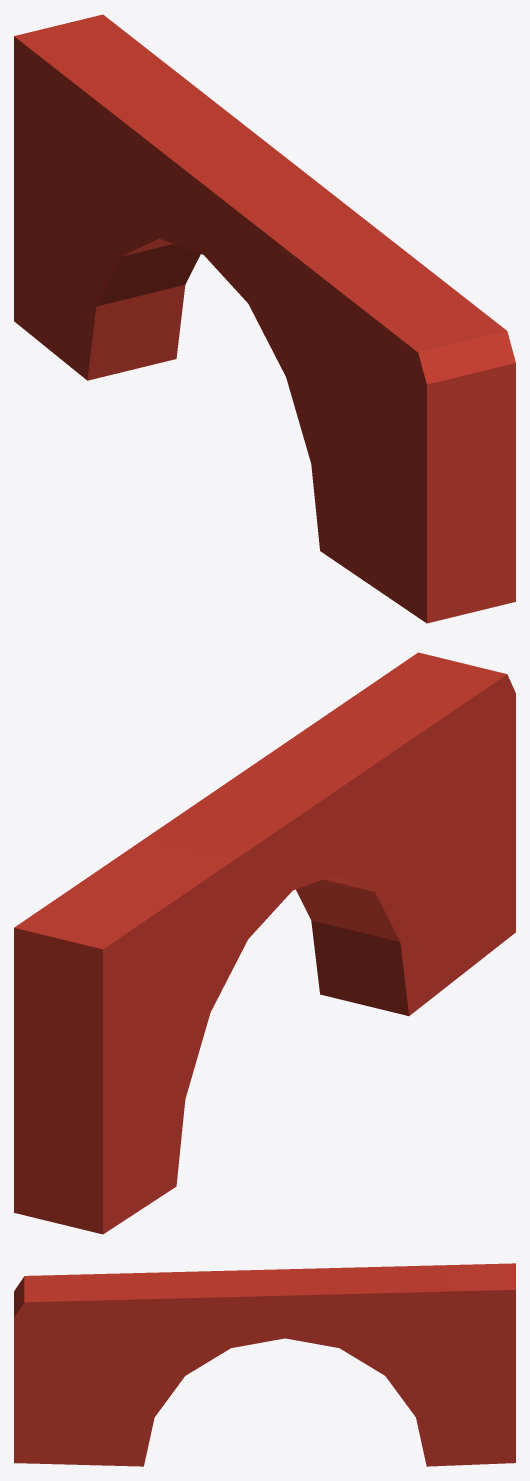
Rendered from kaze_gt_fender_right.glb.
The picture shows the model from 3 angles, top to bottom: view 1: azimuth 30°, elevation 25°; view 2: azimuth 150°, elevation 25°; view 3: azimuth 270°, elevation 25°; orthographic projection. The views are drawn at different scales.
Parts seen in each view (by area): view 1: kaze_gt_fender_right; view 2: kaze_gt_fender_right; view 3: kaze_gt_fender_right.
Boxes of the visible parts, x1,y1,x2,y2 form: kaze_gt_fender_right: (14, 14, 515, 623); kaze_gt_fender_right: (14, 652, 515, 1234); kaze_gt_fender_right: (14, 1263, 515, 1466).
Size of the model in its own units: 0.1718 by 0.5359 by 1.38.
